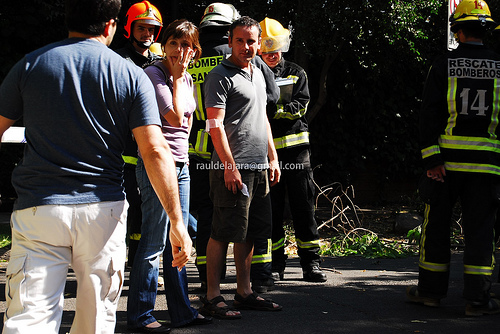helmet: (252, 14, 290, 54), (120, 2, 170, 29), (444, 3, 497, 20)
